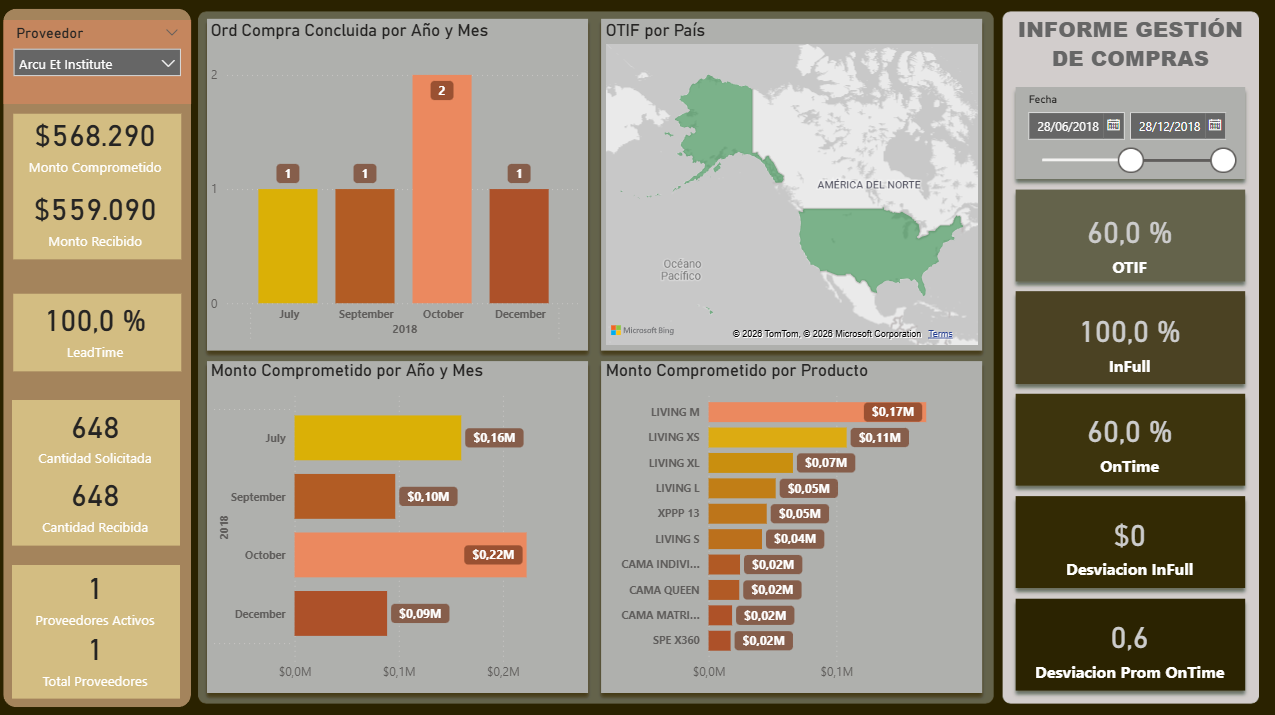

Layout of this report page (visuals, bound fields, positions):
{"tool":"powerbi","page":{"name":"Resumen Gestion Compra","canvas":[1280,720],"ordinal":0},"visuals":[{"type":"shape","box":[6,9,187.8,698.4],"z":0},{"type":"shape","box":[15.7,113.4,167.7,146],"z":500},{"type":"shape","box":[15.7,293.2,167.7,77.2],"z":750},{"type":"shape","box":[14.5,400.5,167.7,146],"z":875},{"type":"shape","box":[14.5,564.6,167.7,133.9],"z":937},{"type":"card","fields":{"Values":["ORDENES.Monto Comprometido"]},"box":[0,89.1,196.8,108.1],"z":1000},{"type":"card","fields":{"Values":["ORDENES.Monto Recibido"]},"box":[0,162.7,196.8,108.1],"z":2000},{"type":"clusteredColumnChart","title":"Ord Compra Concluida por Año y Mes","fields":{"Category":["ORDENES.Fecha.Variation.Date Hierarchy.Year","ORDENES.Fecha.Variation.Date Hierarchy.Month"],"Y":["ORDENES.Ord. Compra Concluida"]},"box":[208.8,19.5,381.5,330.4],"z":3000},{"type":"card","fields":{"Values":["ORDENES.Cantidad Solicitada"]},"box":[0,379.5,196.8,108.1],"z":5000},{"type":"card","fields":{"Values":["ORDENES.Cantidad Recibida"]},"box":[0,448.6,196.8,108.1],"z":6000},{"type":"card","fields":{"Values":["ORDENES.InFull"]},"box":[1018.4,297.4,228.3,85.6],"z":7000},{"type":"card","fields":{"Values":["ORDENES.OnTime"]},"box":[1018.4,398,228.3,85.6],"z":8000},{"type":"card","fields":{"Values":["ORDENES.OTIF"]},"box":[1018.4,198.3,228.3,85.6],"z":9000},{"type":"card","fields":{"Values":["ORDENES.Desviacion InFull"]},"box":[1018.4,501.7,228.3,85.6],"z":10000},{"type":"card","fields":{"Values":["ORDENES.Desviacion Prom OnTime"]},"box":[1018.4,603.8,228.3,85.6],"z":11000},{"type":"slicer","fields":{"Values":["ORDENES.Fecha"]},"box":[1018.4,87.1,228.3,93.1],"z":12000},{"type":"clusteredBarChart","title":"Monto Comprometido por Año y Mes","fields":{"Y":["ORDENES.Monto Comprometido"],"Category":["ORDENES.Fecha.Variation.Date Hierarchy.Year","ORDENES.Fecha.Variation.Date Hierarchy.Month"]},"box":[208.8,360.5,381.5,330.4],"z":13000},{"type":"clusteredBarChart","title":"Monto Comprometido por Producto","fields":{"Y":["ORDENES.Monto Comprometido"],"Category":["PRODUCTOS.producto"]},"box":[603.8,360.5,381.5,330.4],"z":14000},{"type":"filledMap","title":"OTIF por País","fields":{"Category":["PROVEEDORES.pais"]},"box":[604,20,382,330],"z":15000},{"type":"card","fields":{"Values":["ORDENES.Proveedores Activos"]},"box":[0,541.7,196.6,108.6],"z":16000},{"type":"card","fields":{"Values":["ORDENES.Total Proveedores"]},"box":[0,602,196.6,108.6],"z":17000},{"type":"slicer","fields":{"Values":["PROVEEDORES.nom_prov"]},"box":[6,19.5,187.8,84.1],"z":18000},{"type":"textbox","box":[1004.8,9,256.8,78.1],"z":19000},{"type":"card","fields":{"Values":["ORDENES.LeadTime"]},"box":[0,273.4,196.8,108.1],"z":20000}]}

Visuals, with their boxes in screenshot pixels (x1, y1, x2, y2), scaled from the page's 1280x720 canvas onto the 1275x715 screenshot:
shape: (6, 9, 193, 702)
shape: (16, 113, 183, 258)
shape: (16, 291, 183, 368)
shape: (14, 398, 181, 543)
shape: (14, 561, 181, 694)
card - ORDENES.Monto Comprometido: (0, 88, 196, 196)
card - ORDENES.Monto Recibido: (0, 162, 196, 269)
"Ord Compra Concluida por Año y Mes" clusteredColumnChart: (208, 19, 588, 347)
card - ORDENES.Cantidad Solicitada: (0, 377, 196, 484)
card - ORDENES.Cantidad Recibida: (0, 445, 196, 553)
card - ORDENES.InFull: (1014, 295, 1242, 380)
card - ORDENES.OnTime: (1014, 395, 1242, 480)
card - ORDENES.OTIF: (1014, 197, 1242, 282)
card - ORDENES.Desviacion InFull: (1014, 498, 1242, 583)
card - ORDENES.Desviacion Prom OnTime: (1014, 600, 1242, 685)
slicer - ORDENES.Fecha: (1014, 86, 1242, 179)
"Monto Comprometido por Año y Mes" clusteredBarChart: (208, 358, 588, 686)
"Monto Comprometido por Producto" clusteredBarChart: (601, 358, 981, 686)
"OTIF por País" filledMap: (602, 20, 982, 348)
card - ORDENES.Proveedores Activos: (0, 538, 196, 646)
card - ORDENES.Total Proveedores: (0, 598, 196, 706)
slicer - PROVEEDORES.nom_prov: (6, 19, 193, 103)
textbox: (1001, 9, 1257, 86)
card - ORDENES.LeadTime: (0, 272, 196, 379)
